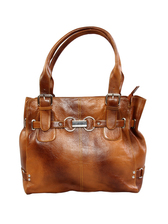bag: (16, 26, 153, 198)
